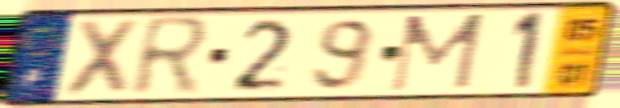1: (508, 9, 549, 94)
2: (232, 17, 295, 93)
9: (309, 17, 379, 91)
M: (386, 11, 489, 95)
R: (127, 13, 216, 101)
X: (59, 16, 145, 99)
